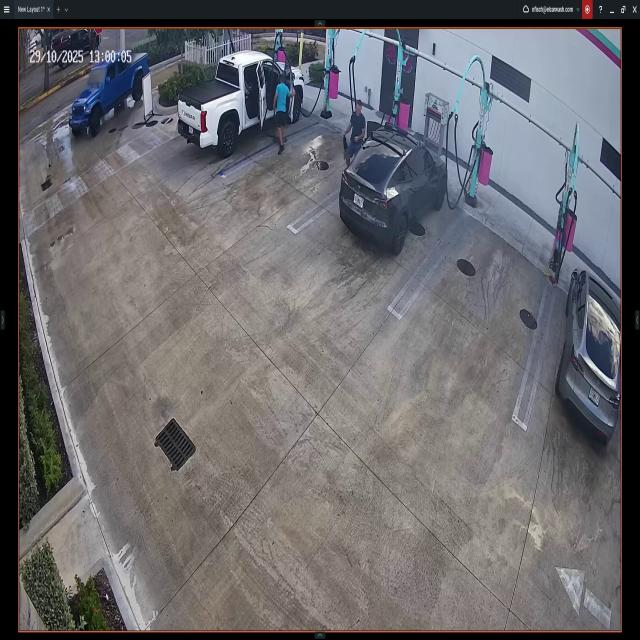Car: (338, 125, 446, 251), (177, 48, 303, 155), (557, 267, 620, 442), (70, 51, 150, 131)
